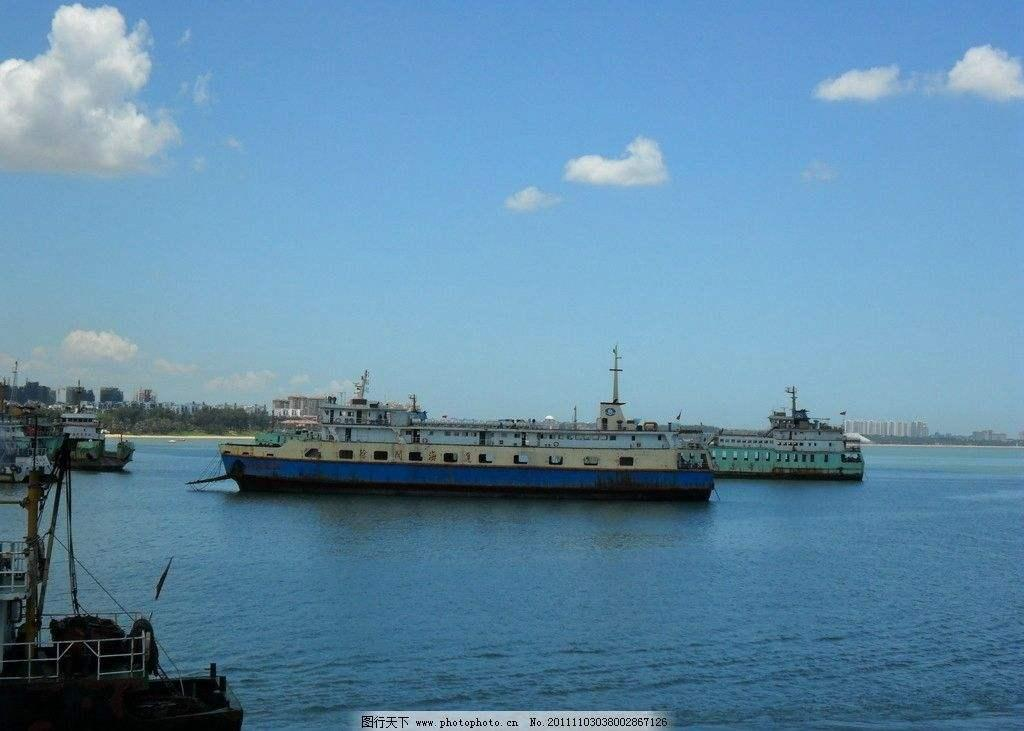youlun: (212, 396, 721, 503), (686, 385, 896, 476)
